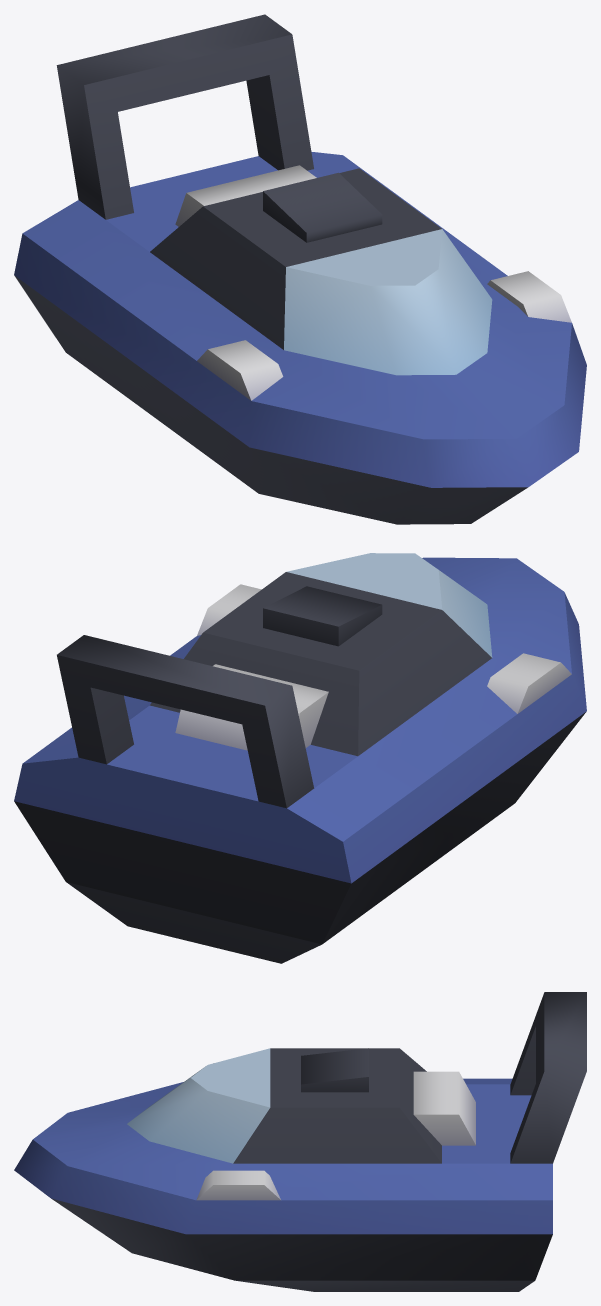
Rendered from speedboat.glb.
3 views of the same model, one above another, from view 1: azimuth 30°, elevation 25°; view 2: azimuth 150°, elevation 25°; view 3: azimuth 270°, elevation 25° (orthographic). The views are drawn at different scales.
Visible parts, largest first — view 1: boat-speed-a; view 2: boat-speed-a; view 3: boat-speed-a.
Part boxes in pixels (x1=…): boat-speed-a: x1=14, y1=14, x2=586, y2=524; boat-speed-a: x1=14, y1=553, x2=586, y2=963; boat-speed-a: x1=14, y1=992, x2=586, y2=1291.
Bounding box in the file's own units: 1.78 × 1.5 × 3.37.
